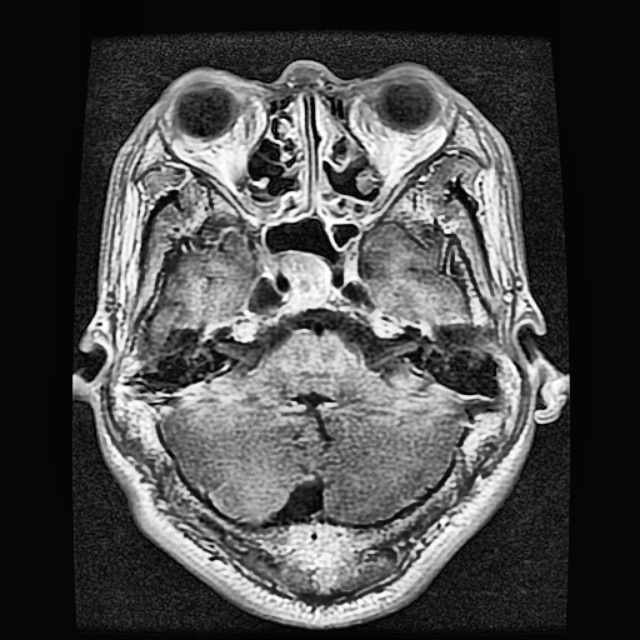Pituitary: (280, 252, 333, 309)
